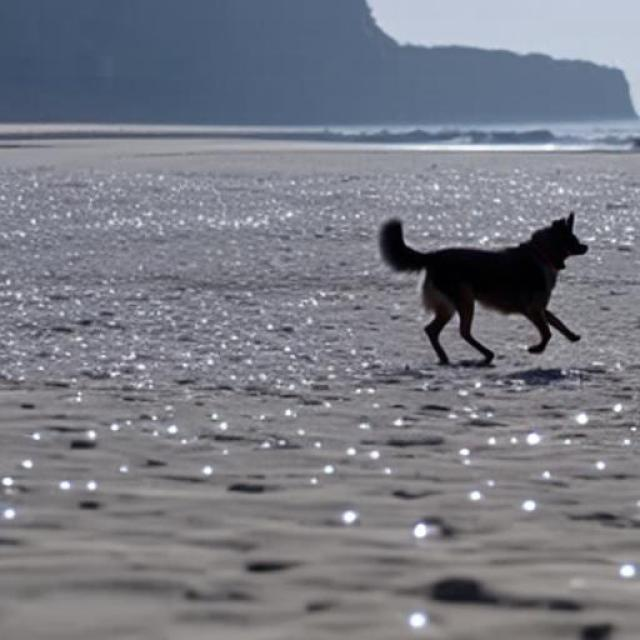Dog: (378, 211, 590, 366)
